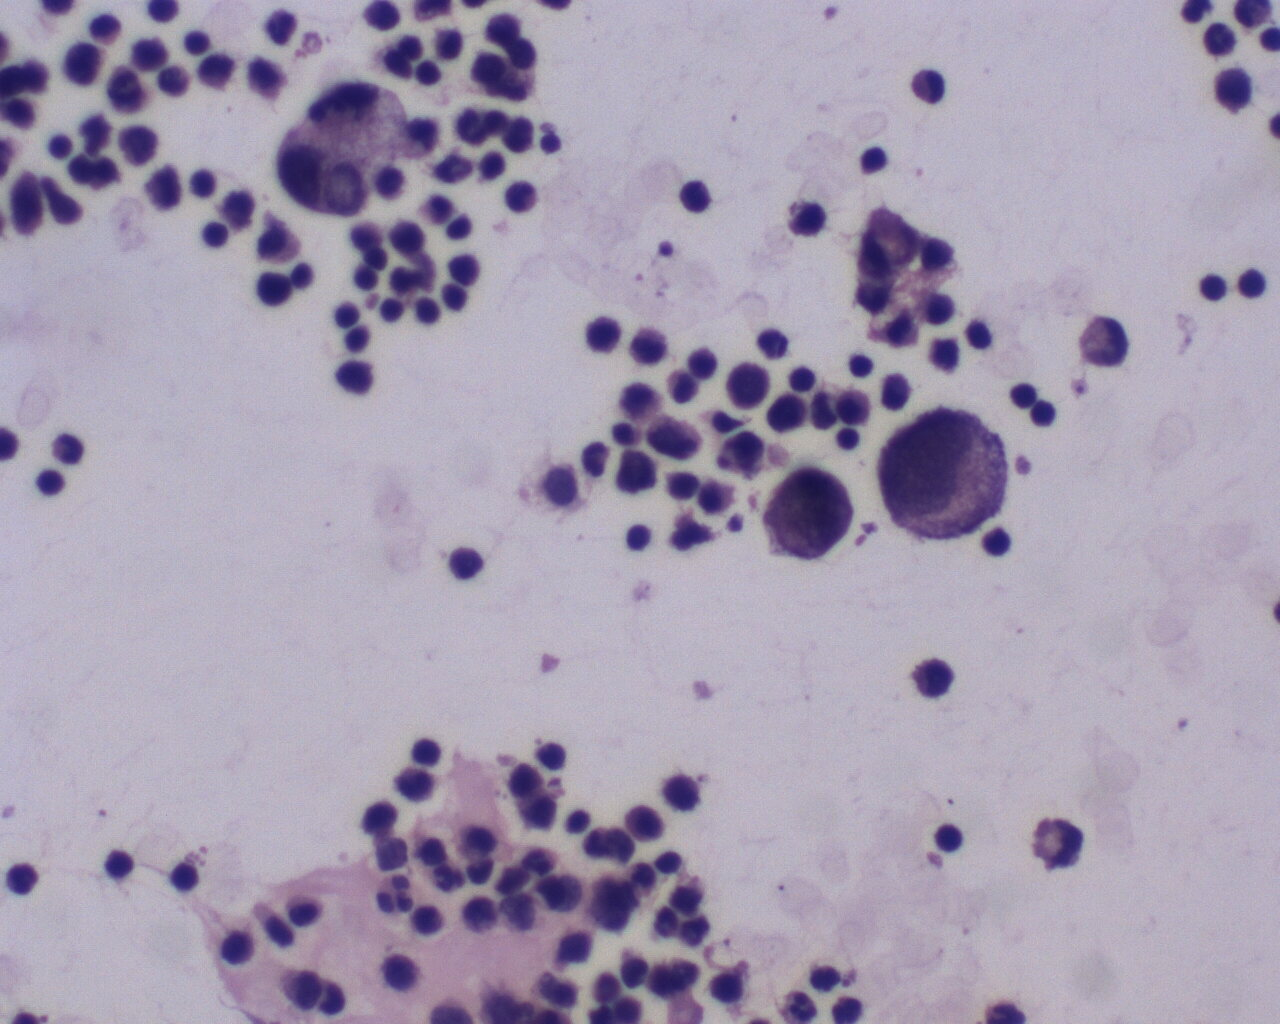ab: (876, 409, 1009, 536), (761, 462, 854, 563), (726, 362, 770, 411), (616, 451, 662, 496)
lymph: (580, 310, 627, 358), (445, 543, 491, 585), (911, 63, 957, 104), (101, 844, 144, 884), (678, 176, 718, 216), (168, 857, 205, 895), (30, 465, 72, 498), (1197, 267, 1231, 308), (409, 734, 447, 768), (784, 358, 820, 394), (410, 55, 447, 89), (929, 822, 967, 854), (188, 164, 223, 197), (624, 517, 656, 553), (201, 217, 233, 252), (412, 293, 443, 326), (1009, 377, 1041, 410), (331, 298, 363, 330), (46, 131, 76, 164), (980, 527, 1013, 557), (656, 848, 686, 878)
neutro: (260, 1, 306, 48), (374, 870, 415, 916), (781, 987, 820, 1024)
